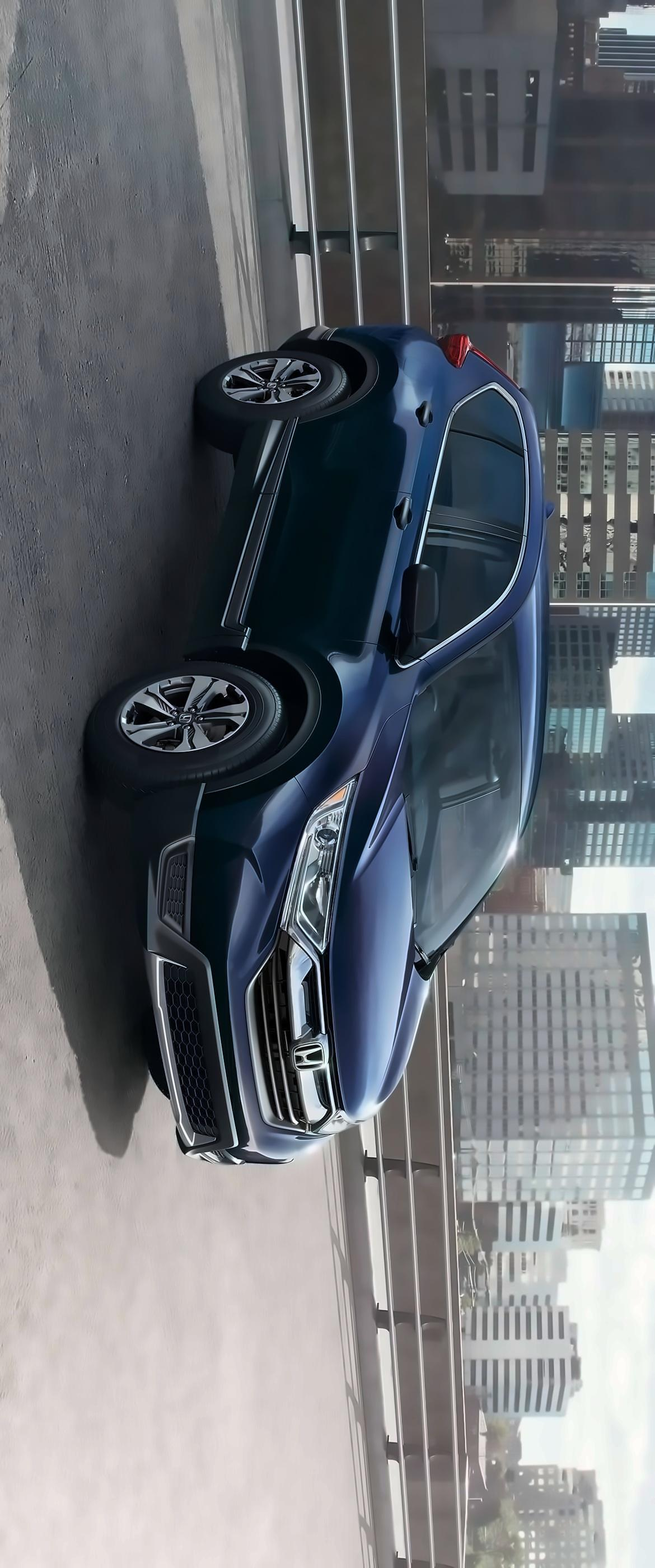Car hood: (330, 693, 435, 1140)
Driver-s door - -F-R-: (222, 489, 540, 662)
Fender - -F-R-: (190, 616, 424, 805)
Fender - -R-R-: (351, 310, 491, 425)
Front bumper: (125, 774, 331, 1166)
Headlight - -L-: (314, 1079, 380, 1144)
Headlight - -R-: (269, 754, 368, 961)
Passenger-s door - -R-R-: (254, 398, 545, 559)
Rear bumper: (261, 303, 360, 359)
Rear light - -R-: (429, 318, 528, 393)
Side bumper - -R-: (170, 409, 299, 662)
Side mirror - -R-: (373, 547, 445, 674)
